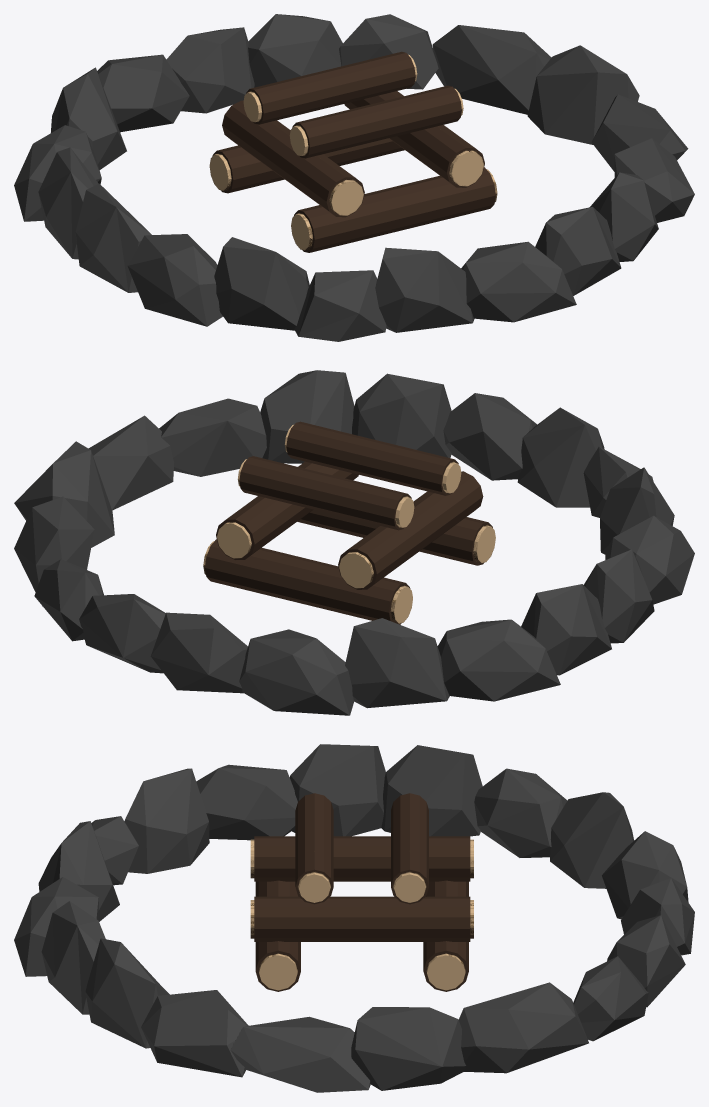
Rendered from Campfire.fbx.
3 views of the same model, one above another, from view 1: azimuth 30°, elevation 25°; view 2: azimuth 150°, elevation 25°; view 3: azimuth 270°, elevation 25° (orthographic). The views are drawn at different scales.
Visible parts, largest first — view 1: Icosphere.001, Cylinder.005; view 2: Icosphere.001, Cylinder.005; view 3: Icosphere.001, Cylinder.005.
Part boxes in pixels (x1,y1,x2,y2): Icosphere.001: [14, 14, 694, 341]; Cylinder.005: [209, 51, 497, 252]; Icosphere.001: [14, 370, 694, 715]; Cylinder.005: [203, 421, 495, 624]; Icosphere.001: [14, 744, 694, 1092]; Cylinder.005: [250, 793, 473, 991].
Bounding box in the file's own units: 221 × 41.79 × 220.
